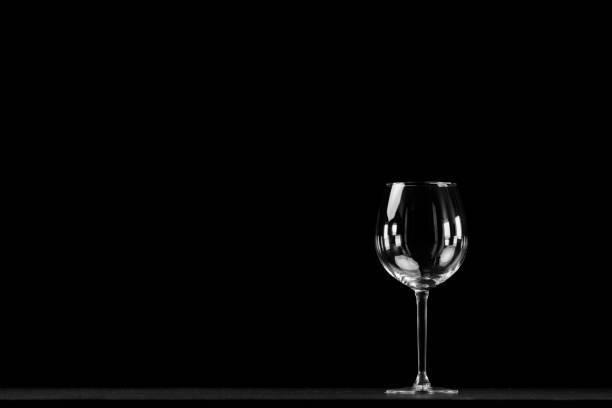glass-wine: (374, 178, 468, 392)
